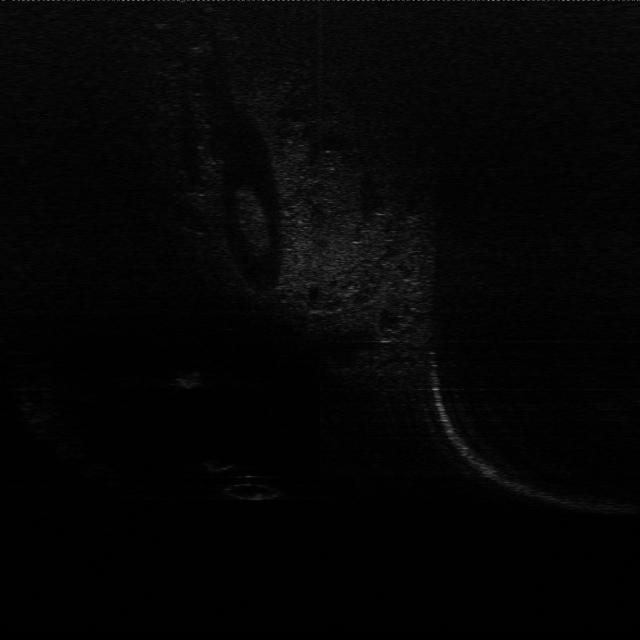cube: (197, 448, 239, 475)
square cage: (167, 369, 209, 393)
tyre: (216, 476, 290, 506)
